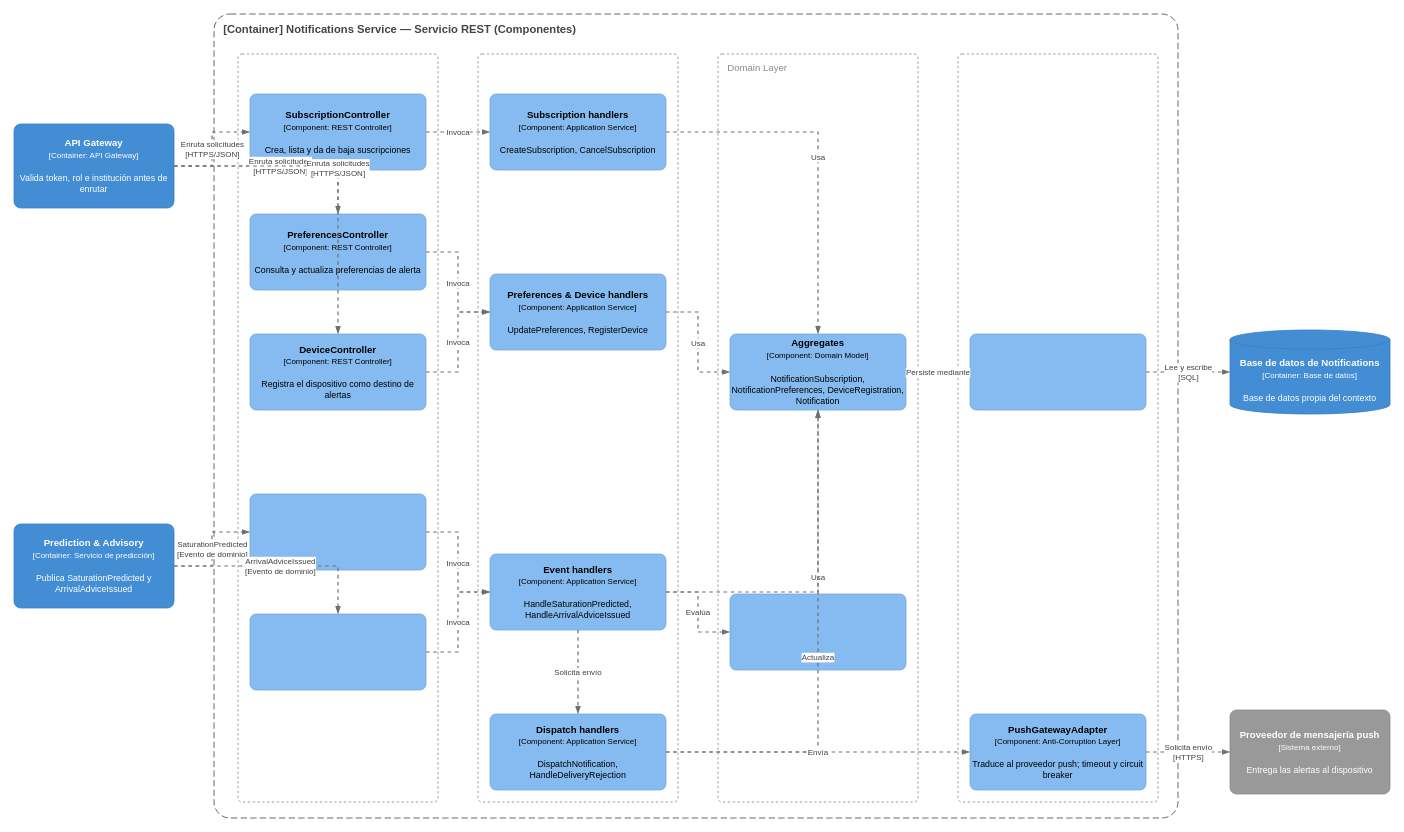
Image size: 1404x832. Some labels were removed from this diagram. The shapes that lost their labels are listed below. From the top down, each one's box as (x1, y1, x2, y2) in pixels, then its label:
(969, 333, 1146, 410): Repositories [Component: Repository adapters] Persistencia de los aggregates
(237, 53, 438, 802): Interface Layer
(477, 53, 678, 802): Application Layer
(957, 53, 1158, 802): Infrastructure Layer
(249, 493, 426, 570): PredictionEventConsumer [Component: Event Consumer] Recibe SaturationPredicted
(249, 613, 426, 690): AdviceEventConsumer [Component: Event Consumer] Recibe ArrivalAdviceIssued
(729, 593, 906, 670): Alert policies [Component: Domain Service] AlertPolicy y DeduplicationPolicy
